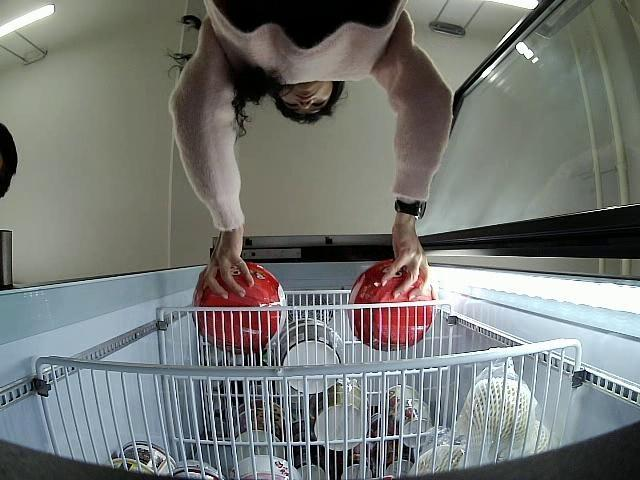10_wangTtukkeong: (194, 262, 285, 352), (348, 262, 436, 350)
